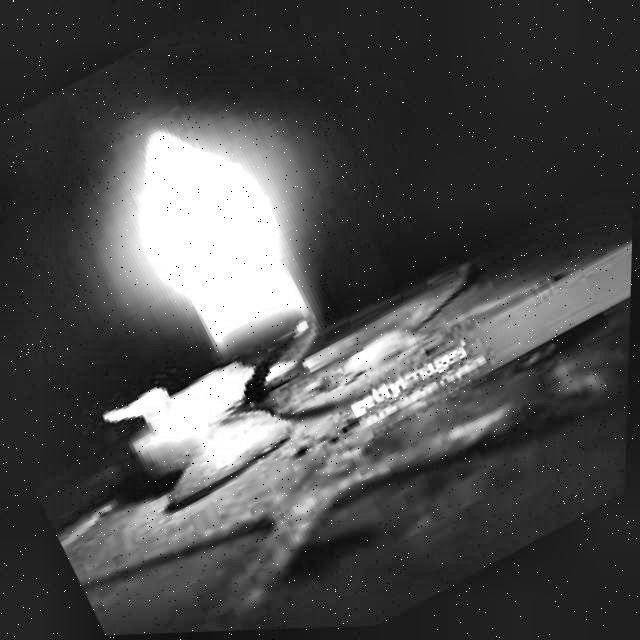Fire: (45, 83, 370, 454)
